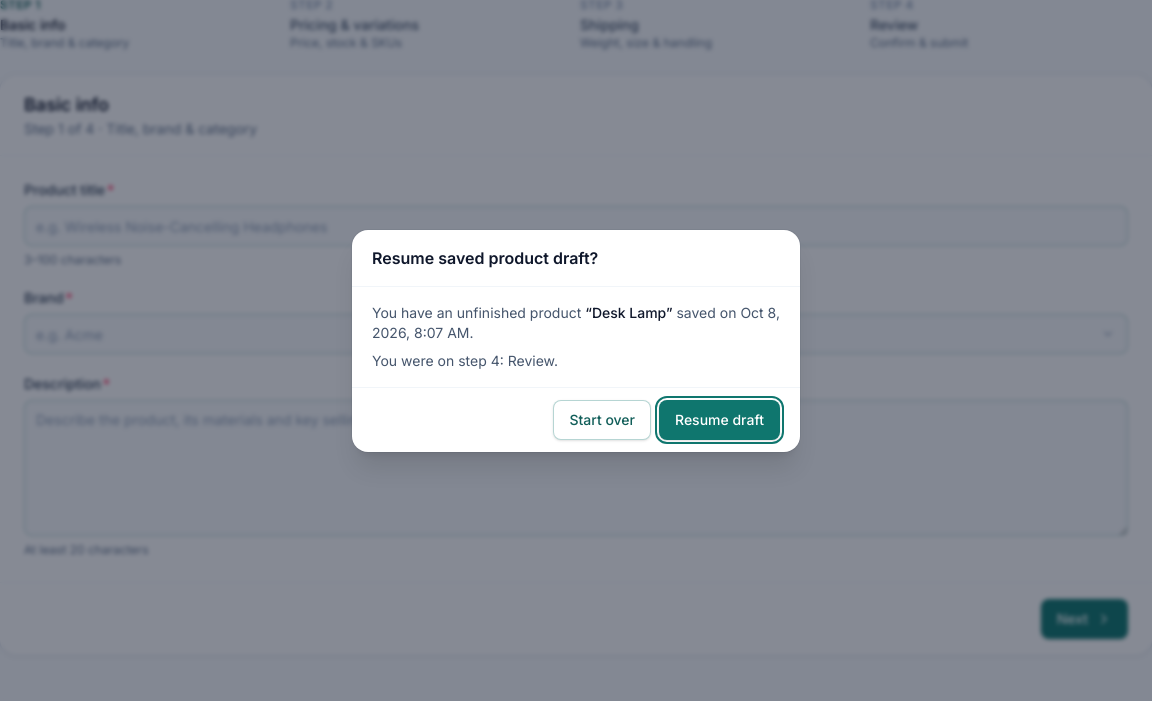
ProductWizard (integration) › shows an error and keeps the draft when the API rejects the submission
This screenshot has width=1152, height=701.
Click the button "Resume draft" at (720, 420), box [659, 400, 780, 440]
(page scrolled)
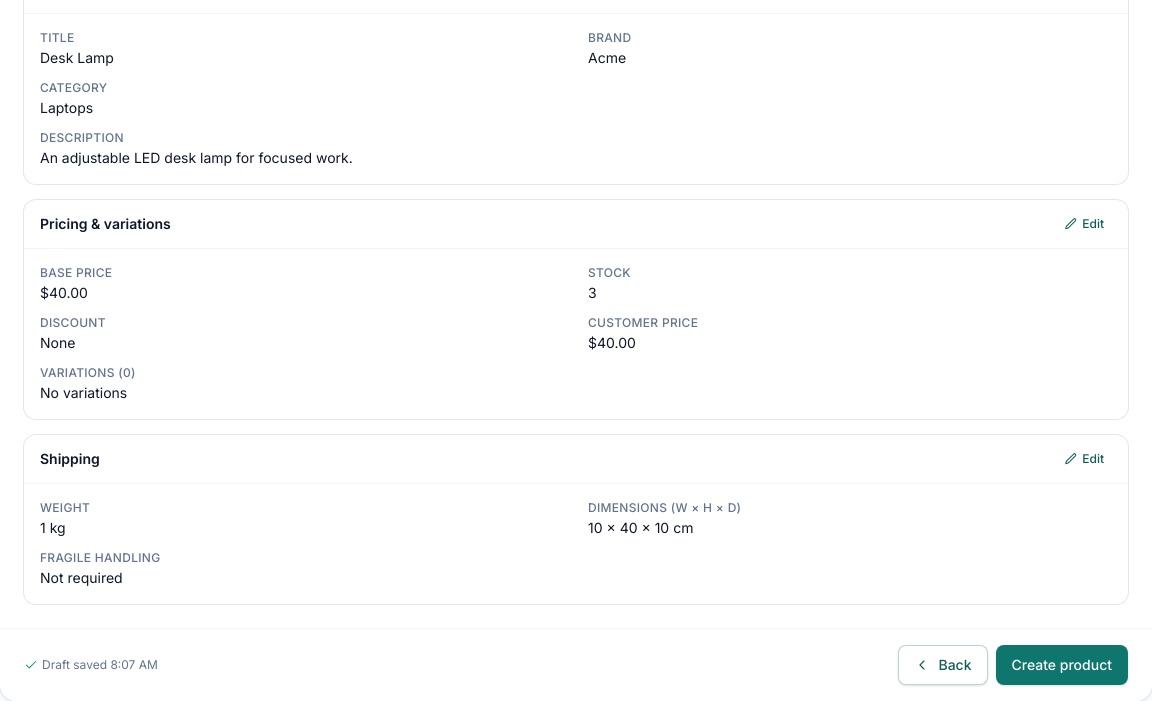
Click the button "Create product" at (1062, 665), box [996, 645, 1128, 685]
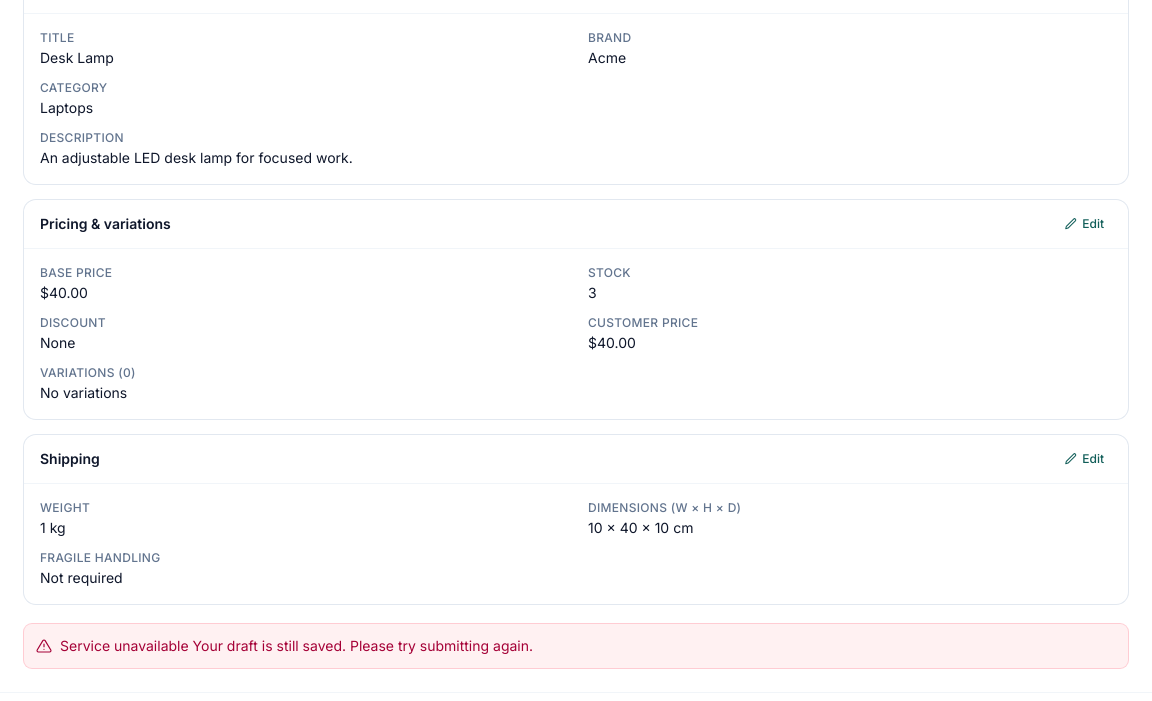
Check: the text "Desk Lamp" is shown, box [40, 49, 114, 66]
Check: the text "Service unavailable" is shown, box [60, 637, 189, 654]
